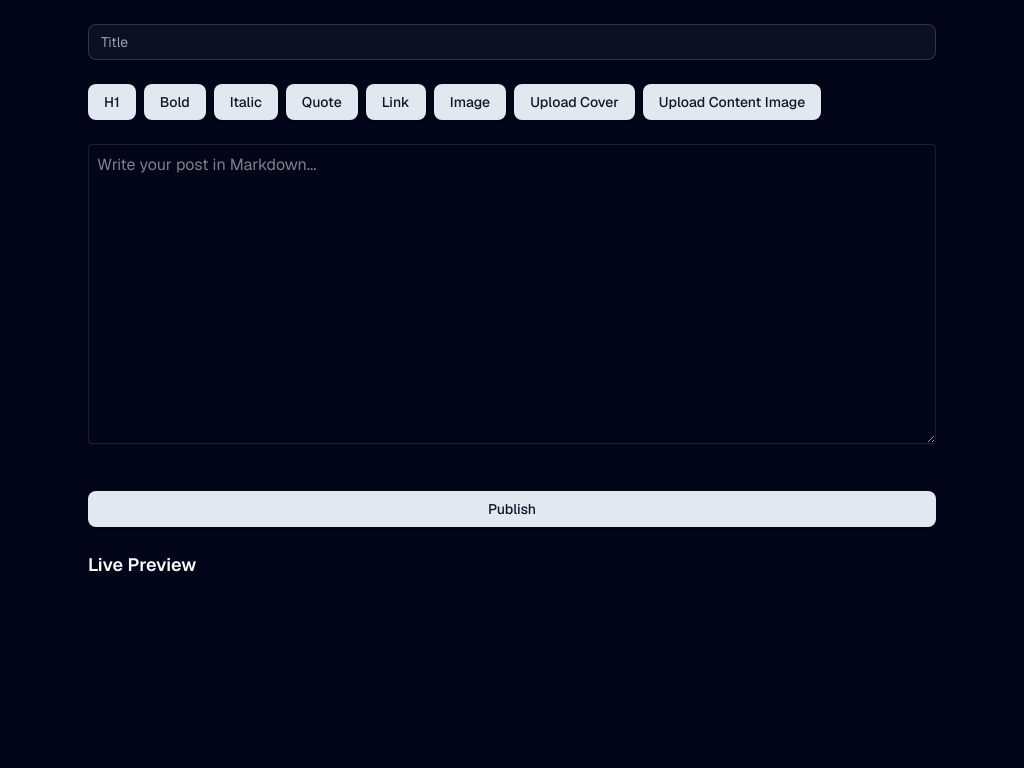
Test: CreatePostPage › shows modal with response message when post is saved successfully
Step 1. Type "Test Title" into the field with placeholder "Title" → (512, 42), box top-left (88, 24), bottom-right (936, 60)
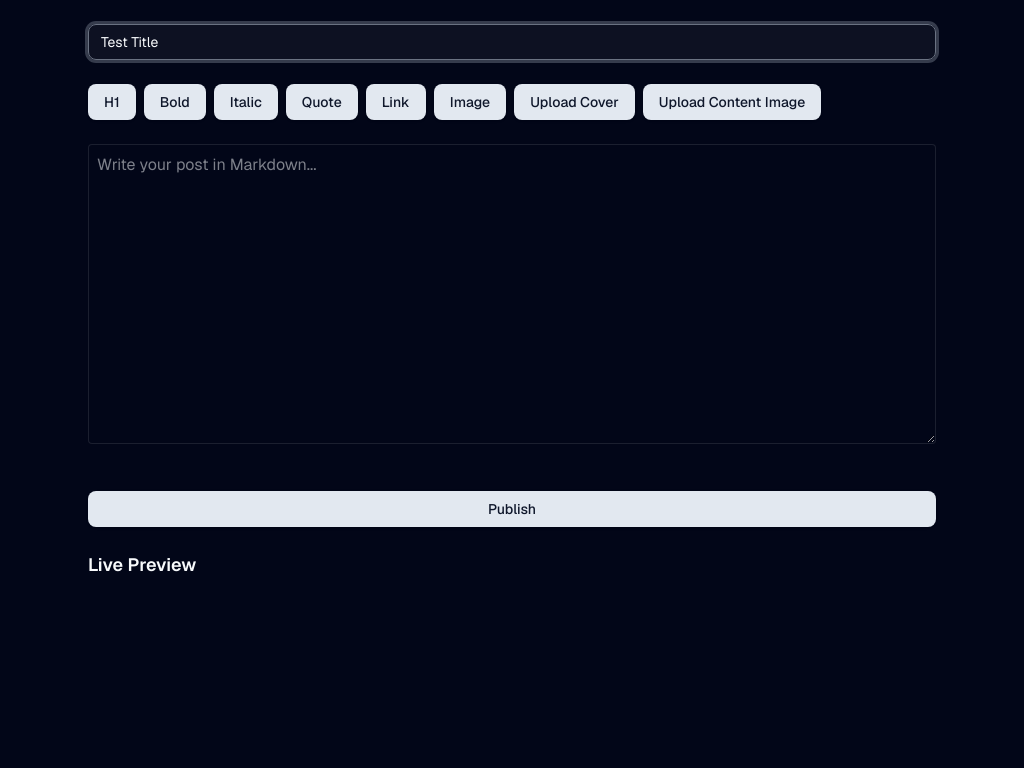
Step 2. Click the button "Publish" → (512, 509), box top-left (88, 491), bottom-right (936, 527)
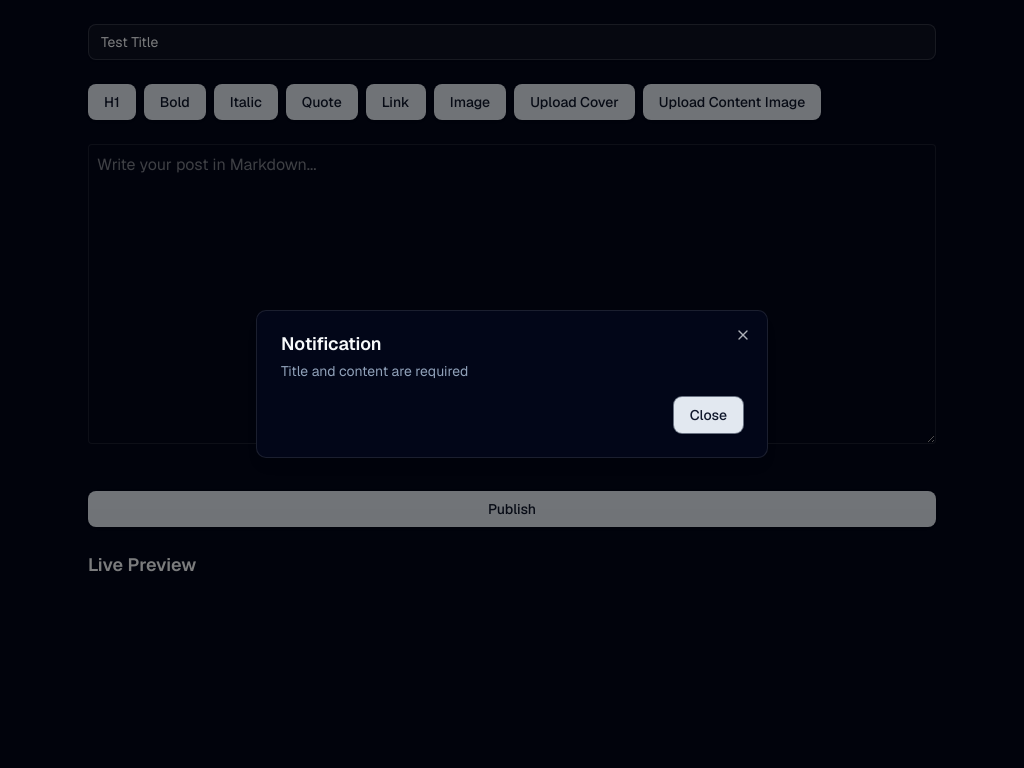
Check: the dialog is shown, box top-left (256, 310), bottom-right (768, 458)
